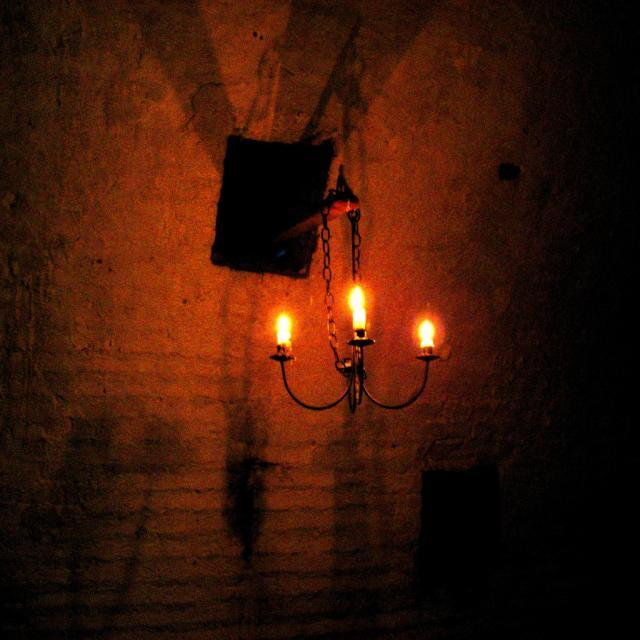Fire: (278, 312, 292, 352), (411, 322, 439, 338), (345, 282, 353, 310)
